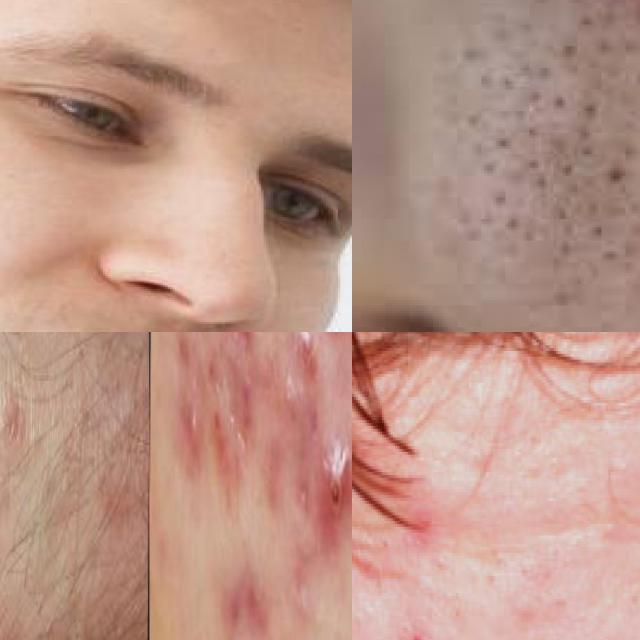acne_scars: (222, 546, 277, 640)
comedone: (436, 0, 640, 318)
cystic: (316, 440, 352, 567)
papule: (173, 382, 200, 461), (298, 332, 321, 382)
